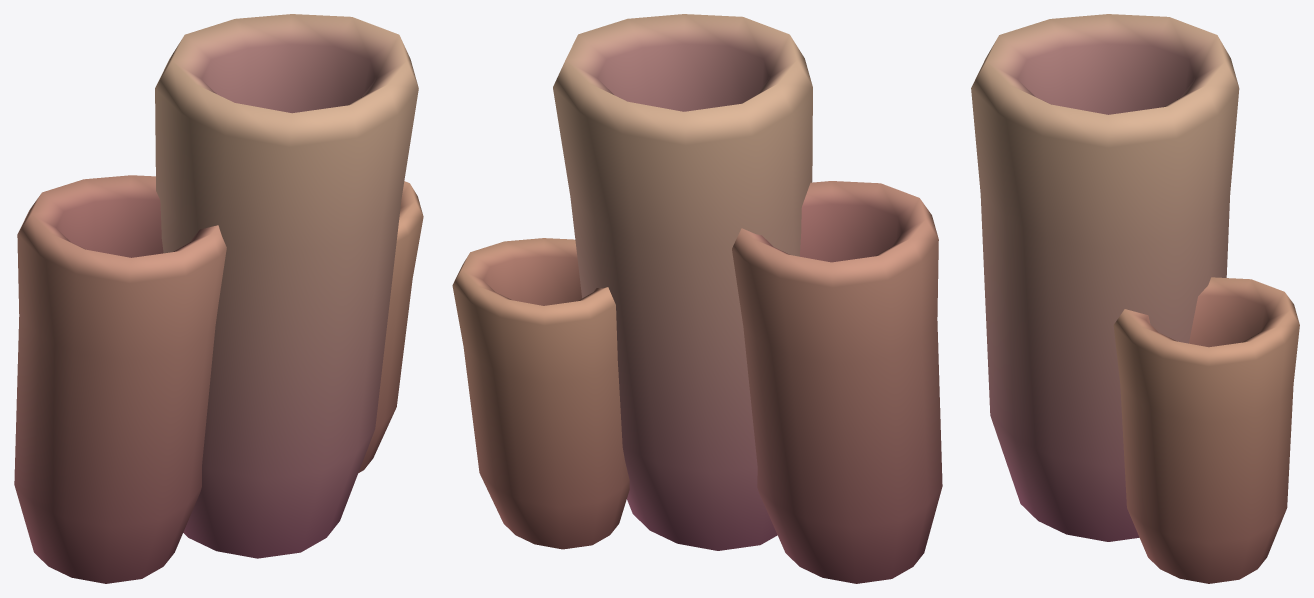
Rendered from Ocean_Coral_Tube_Sponge.glb.
The picture shows the model from 3 angles, left to right: view 1: azimuth 30°, elevation 25°; view 2: azimuth 150°, elevation 25°; view 3: azimuth 270°, elevation 25°; orthographic projection. The views are drawn at different scales.
Visible parts, largest first — view 1: Ocean_Coral_Tube_Sponge; view 2: Ocean_Coral_Tube_Sponge; view 3: Ocean_Coral_Tube_Sponge.
Part boxes in pixels (x1,y1,x2,y2): Ocean_Coral_Tube_Sponge: (14, 14, 423, 583); Ocean_Coral_Tube_Sponge: (452, 14, 942, 583); Ocean_Coral_Tube_Sponge: (971, 14, 1299, 583).
Bounding box in the file's own units: 0.6744 × 0.68 × 0.4413.
